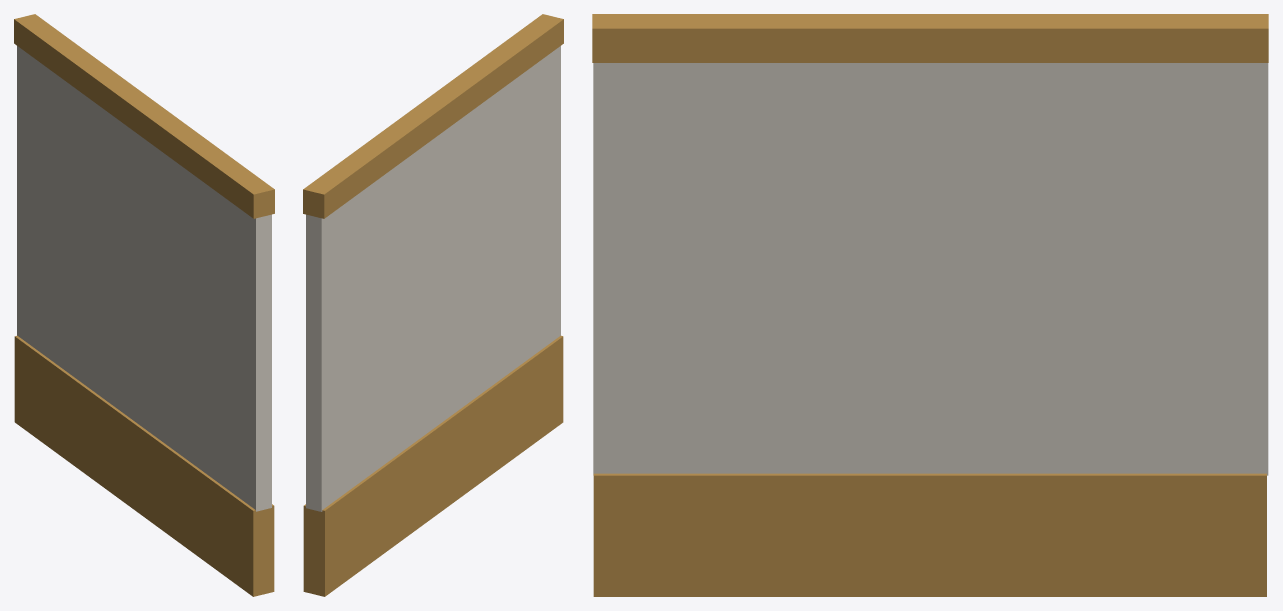
The model's file is 廊下壁.fbx.
3 views of the same model, side by side, from view 1: azimuth 30°, elevation 25°; view 2: azimuth 150°, elevation 25°; view 3: azimuth 270°, elevation 25° (orthographic). The views are drawn at different scales.
Parts seen in each view (by area): view 1: 壁上01, 02, 上の窓枠.001; view 2: 壁上01, 02, 上の窓枠.001; view 3: 壁上01, 02, 上の窓枠.001.
Boxes of the visible parts, x1=… form: 壁上01: x1=17, y1=46, x2=271, y2=511; 02: x1=14, y1=335, x2=274, y2=596; 上の窓枠.001: x1=14, y1=14, x2=274, y2=218; 壁上01: x1=306, y1=46, x2=560, y2=511; 02: x1=303, y1=335, x2=563, y2=596; 上の窓枠.001: x1=303, y1=14, x2=563, y2=218; 壁上01: x1=593, y1=63, x2=1268, y2=475; 02: x1=593, y1=473, x2=1266, y2=596; 上の窓枠.001: x1=592, y1=14, x2=1268, y2=62.
Size of the model in its own units: 0.4356 by 7.92 by 8.55.
